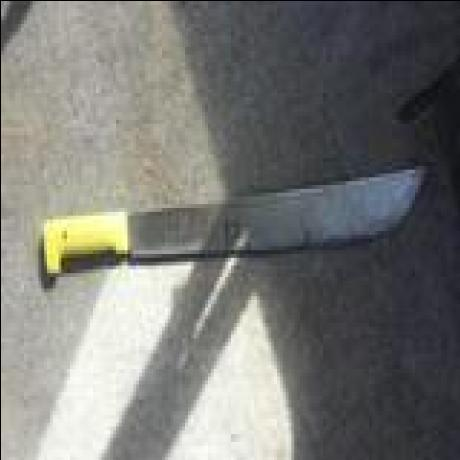weapon: (34, 166, 422, 286)
